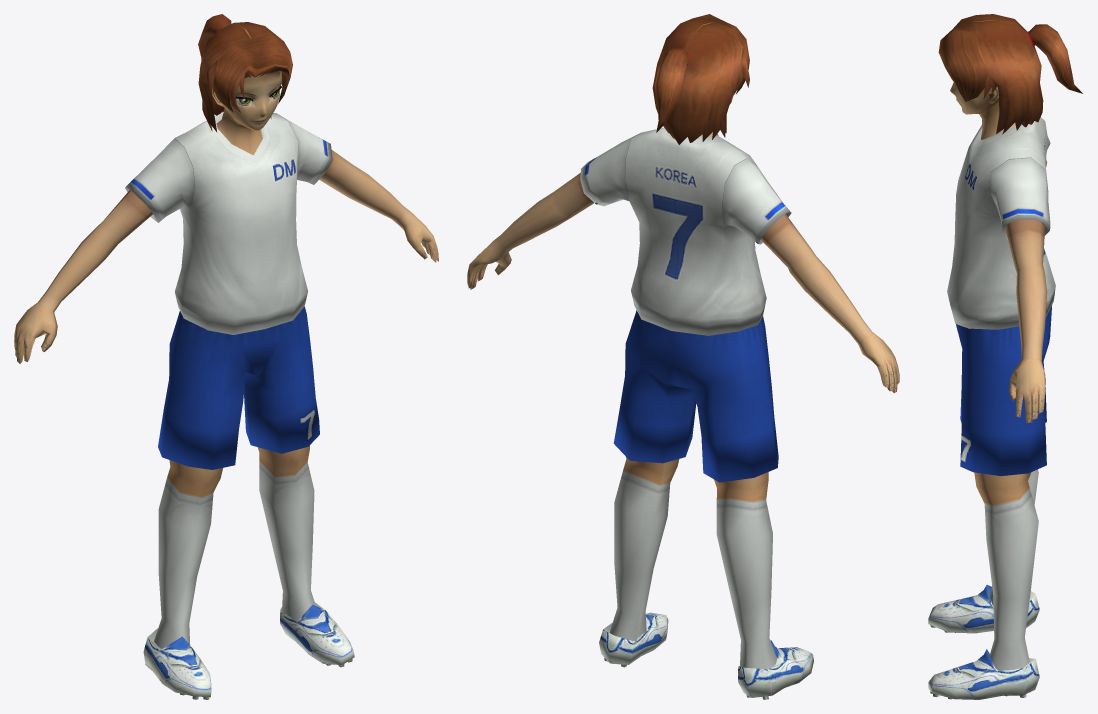
The model's file is Masaru_Costume11.obj.
3 renders of one model, left to right at view 1: azimuth 30°, elevation 25°; view 2: azimuth 150°, elevation 25°; view 3: azimuth 270°, elevation 25°, orthographic.
Visible parts, largest first — view 1: Object02; view 2: Object02; view 3: Object02.
Boxes of the visible parts, x1,y1,x2,y2 form: Object02: (14,14,438,699); Object02: (467,14,899,699); Object02: (928,14,1082,699).
Size of the model in its own units: 124 by 181 by 39.74.
Materials: 1 (1 with a texture image).
